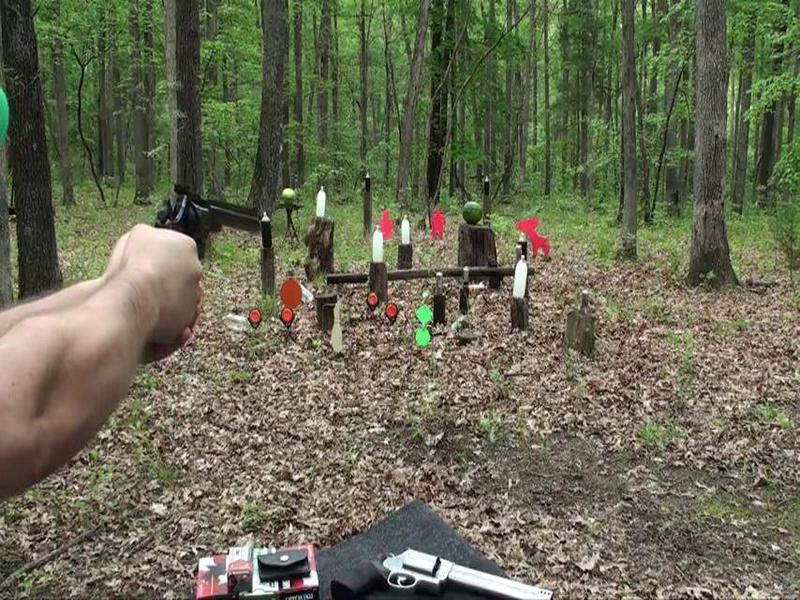Revolver: (139, 176, 291, 278)
